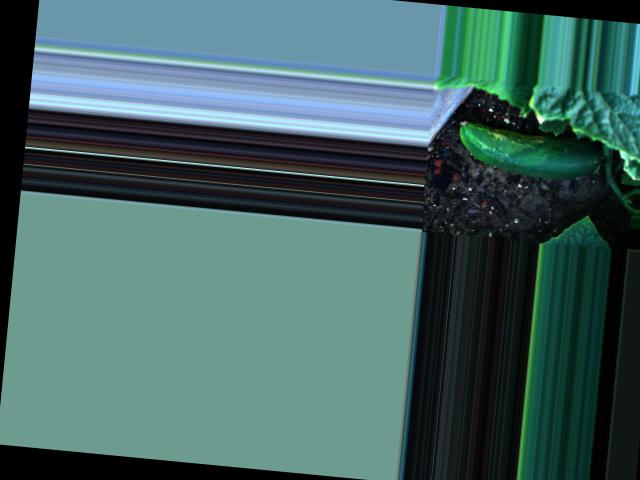cucumber: (455, 119, 602, 183)
